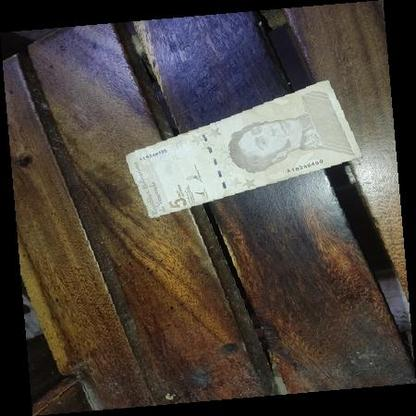five-front-vef: (124, 80, 362, 218)
